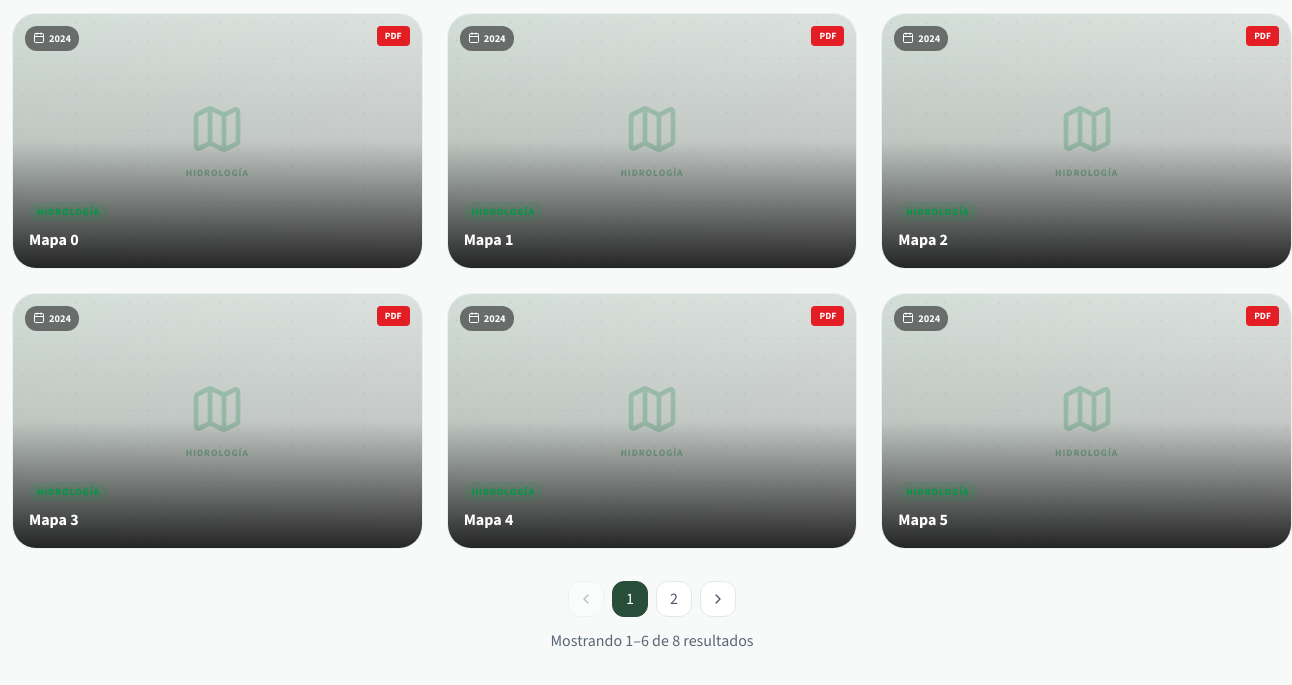
Mapas — geovisor y paginación › con más de 6 mapas, pagina de a 6 y navega correctamente
The image size is (1292, 685).
(page scrolled)
Expected: the text "Mapa 0" is shown, x1=29 y1=229 x2=79 y2=250
Click the button "2" at (674, 599), box x1=656 y1=581 x2=692 y2=617
(page scrolled)
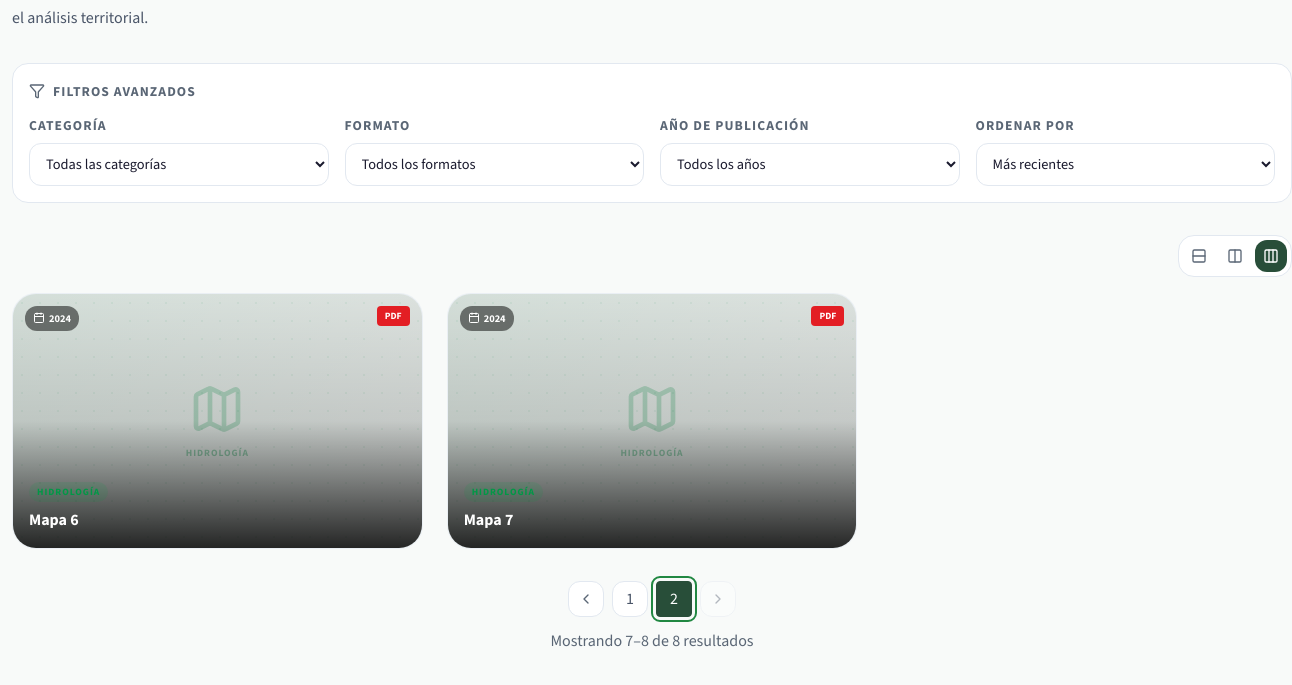
Now the text "Mapa 6" is shown, box x1=29 y1=509 x2=79 y2=530
Now the text "Mapa 0" is not shown
